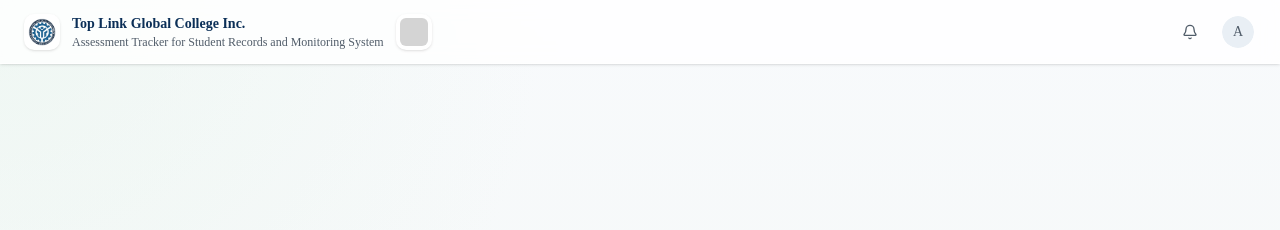
Test: Header logout › renders logout in the header user dropdown
What coordinates should you click on to do the following:
click the button named "admin user"
I would click on:
 (1238, 32)
Its box is [1220,14,1256,50].
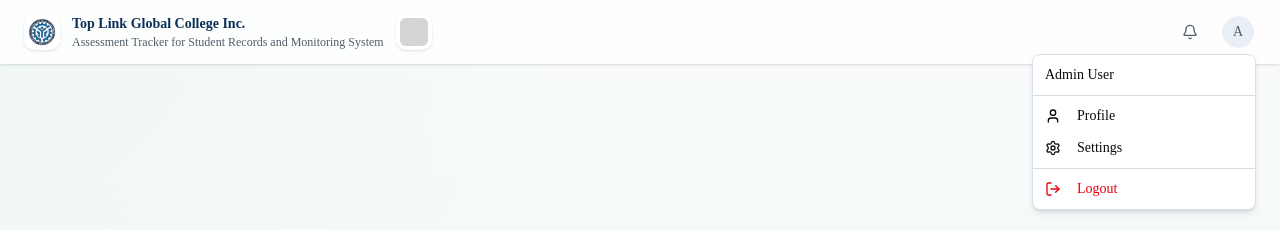
Expected: the menu item "Logout" is shown, [1045,181,1118,197]
